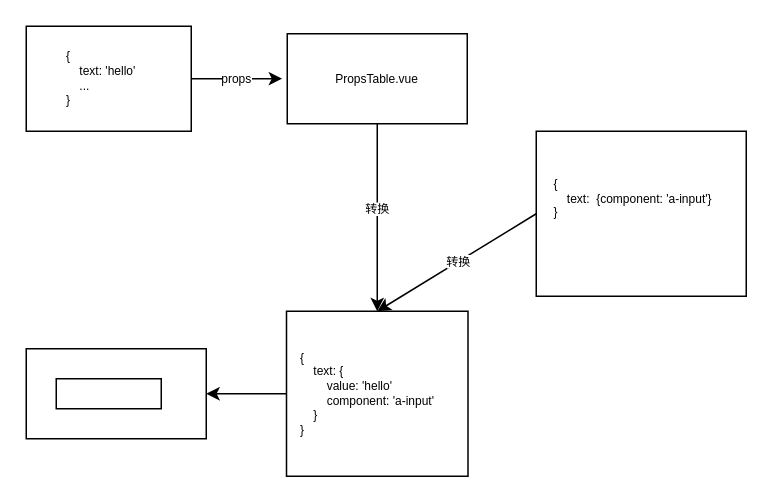
This 773x503 diagram has some shape labels left out. Here are the shapes that lost their labels. From the top down, the box of each, then its label:
(535, 130, 746, 296): propsMap.ts
(55, 377, 161, 409): hello
